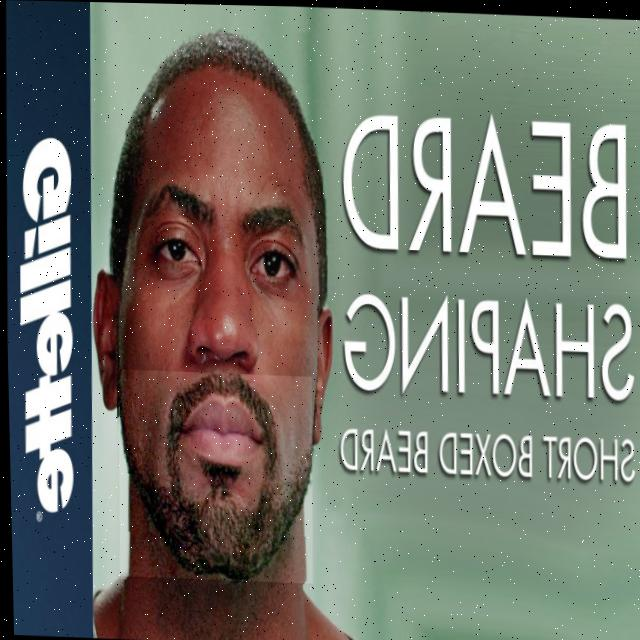beard: (117, 373, 309, 580)
hair: (109, 28, 325, 303)
